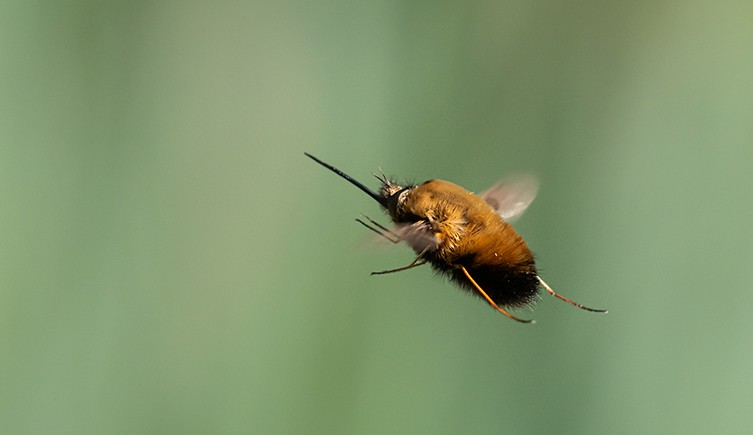insect: (303, 152, 612, 325)
